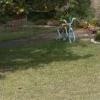Bicycle: (54, 14, 77, 50)
